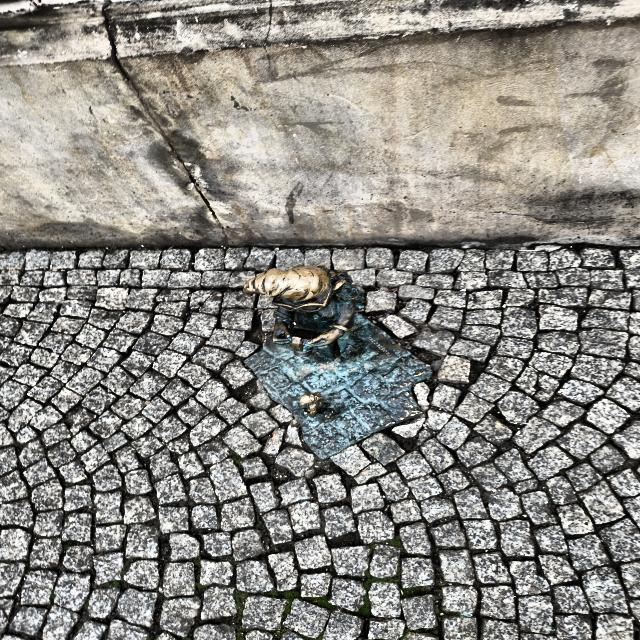Troszka i Adoratorek: (242, 266, 437, 461)
